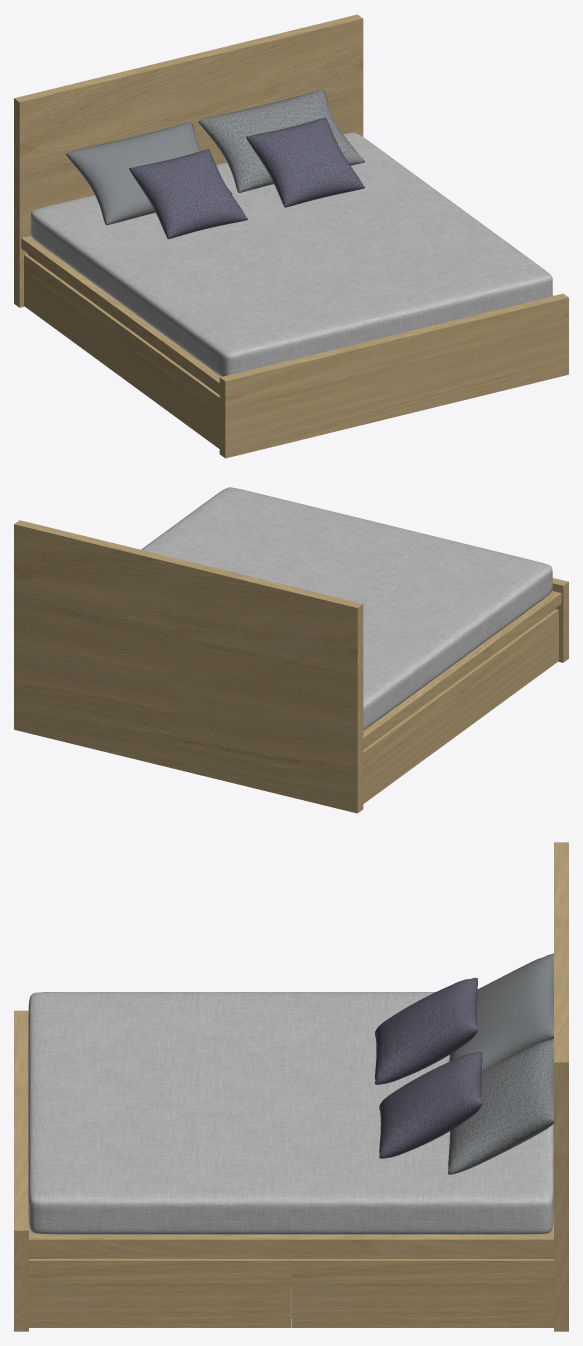
File: ikea-malm-storage-bed.glb
The picture shows the model from 3 angles, top to bottom: view 1: azimuth 30°, elevation 25°; view 2: azimuth 150°, elevation 25°; view 3: azimuth 270°, elevation 25°; orthographic projection. The views are drawn at different scales.
Visible parts, largest first — view 1: Saltea, Cube.003, Cube, Cube.011, Cube.017, Cube.012, Cube.001, Storage1, Storage2, Cube.004; view 2: Cube.003, Saltea, Storage2, Storage1, Cube.004, Cube, Cube.002; view 3: Saltea, Storage3, Storage4, Cube.004, Cube.001, Cube.003, Cube.017, Cube.012, Cube.011, Cube, Cube.005.
Part boxes in pixels (<box>): Saltea: <box>30,132,552,376</box>; Cube.003: <box>14,14,363,307</box>; Cube: <box>219,293,568,458</box>; Cube.011: <box>66,122,232,225</box>; Cube.017: <box>246,117,364,207</box>; Cube.012: <box>129,149,247,239</box>; Cube.001: <box>198,90,364,192</box>; Storage1: <box>24,254,126,378</box>; Storage2: <box>124,327,219,448</box>; Cube.004: <box>21,236,553,393</box>; Cube.003: <box>14,520,363,813</box>; Saltea: <box>141,487,552,730</box>; Storage2: <box>456,609,558,733</box>; Storage1: <box>363,682,458,803</box>; Cube.004: <box>363,591,561,748</box>; Cube: <box>552,578,568,662</box>; Cube.002: <box>363,608,555,749</box>; Saltea: <box>28,992,553,1234</box>; Storage3: <box>291,1259,553,1327</box>; Storage4: <box>29,1259,290,1327</box>; Cube.004: <box>29,1210,553,1253</box>; Cube.001: <box>448,1038,553,1174</box>; Cube.003: <box>554,842,568,1331</box>; Cube.017: <box>379,1051,482,1158</box>; Cube.012: <box>375,977,477,1084</box>; Cube.011: <box>449,953,553,1071</box>; Cube: <box>14,1010,28,1331</box>; Cube.005: <box>29,1253,553,1286</box>.
Bounding box in the file's own units: 2.8 × 1.6 × 2.98.
Materials: 7 (4 with a texture image).
